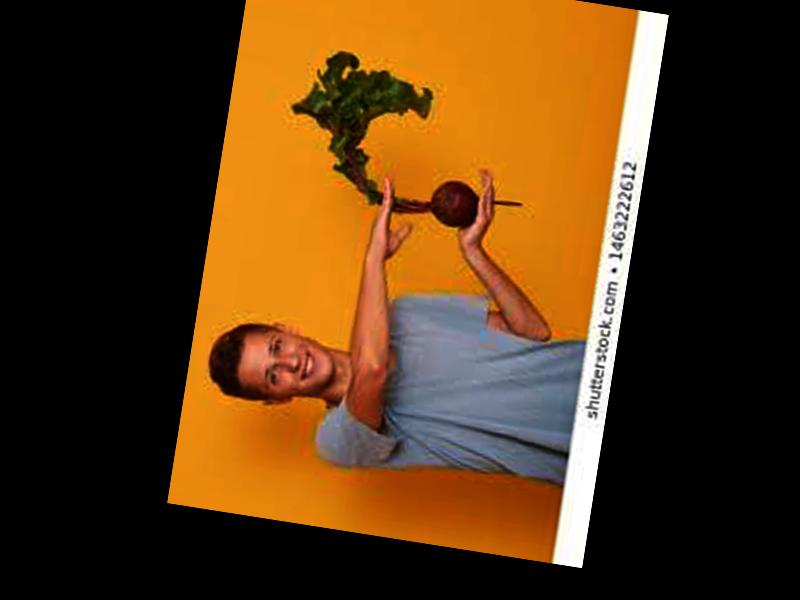Beet: (277, 44, 540, 236)
